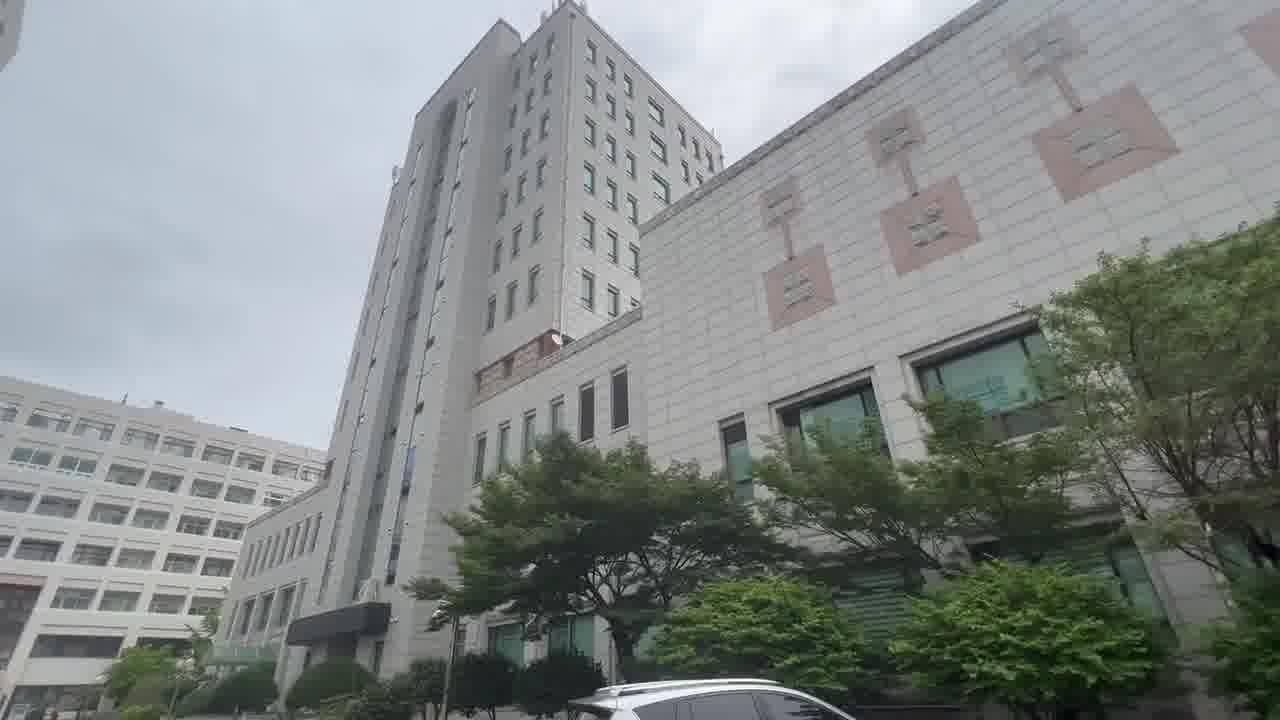building: (352, 8, 1029, 426)
